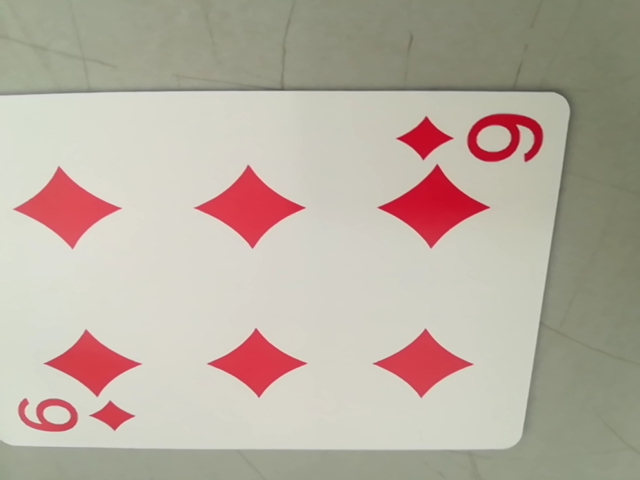fk 6: (394, 107, 545, 170), (8, 392, 137, 445)
